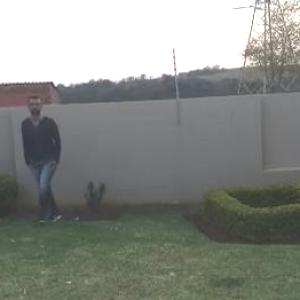follow: (16, 92, 72, 218)
